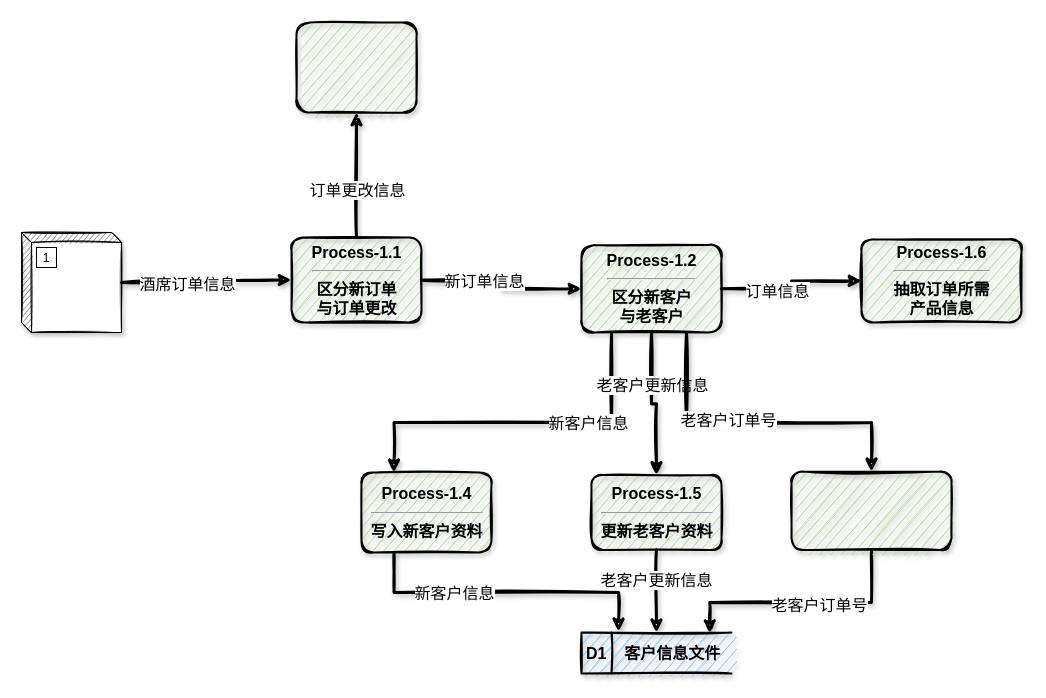
This 1046x698 diagram has some shape labels left out. Here are the shapes that lost their labels. From the top down, the centre of each, then its label:
point (357, 68): Process-1.3 订单更改
point (72, 284): 顾客
point (872, 512): Process-1.6 添加老客户 订单信息
